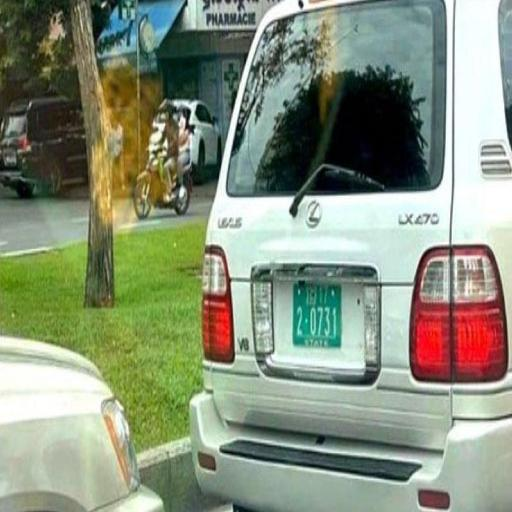Plate Number: (294, 281, 343, 349)
